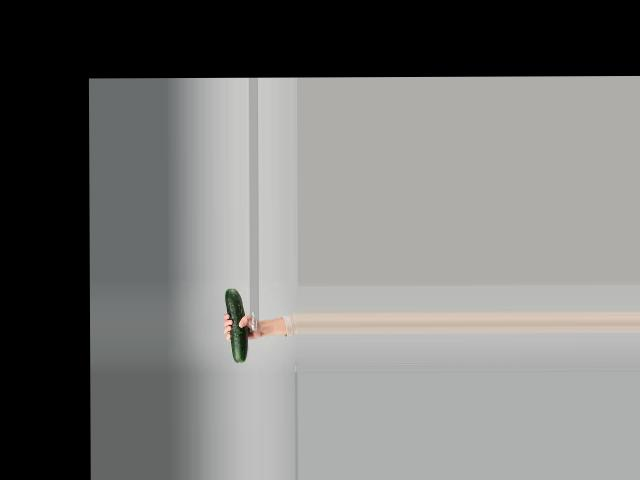cucumber: (224, 287, 247, 361)
